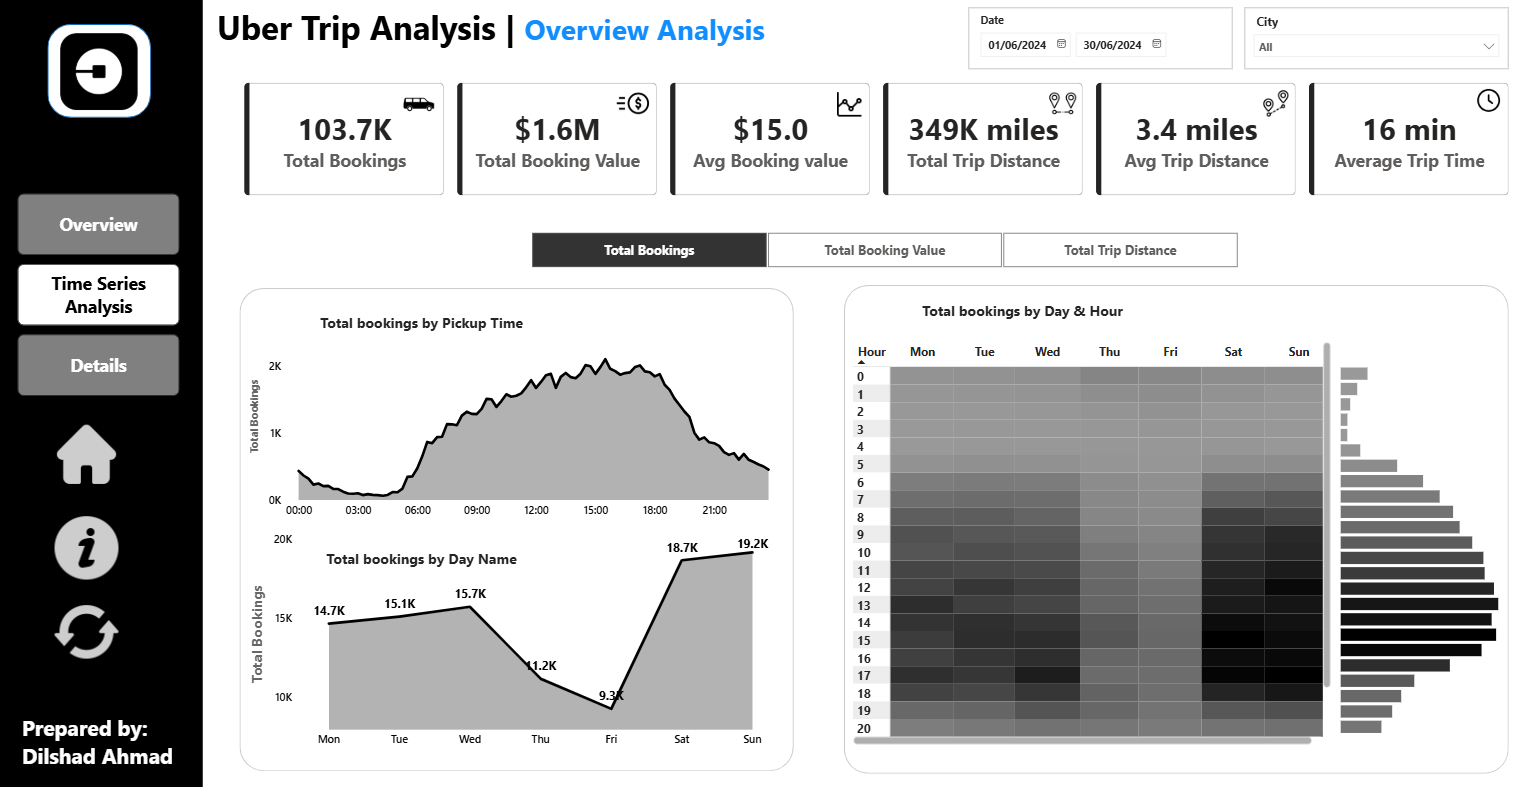

The page's visual inventory and layout, read from the dashboard file:
{"tool":"powerbi","page":{"name":"Overview","canvas":[1800,900],"ordinal":0},"visuals":[{"type":"shape","box":[33.3,0,233,900.7],"z":0},{"type":"cardVisual","fields":{"Data":["Trip Details.Total Bookings","Trip Details.Total Booking Value","Trip Details.Avg Booking Amount","Trip Details.Total Trip Distance","Trip Details.Avg Trip Distance","Trip Details.Average Trip Time"]},"box":[309,89.5,1447.6,138.3],"z":1000},{"type":"textbox","box":[308.4,0,687.8,68.8],"z":2000},{"type":"image","box":[1199.6,97.6,87.4,40.7],"z":3000},{"type":"image","box":[488,91.5,48.8,52.9],"z":4000},{"type":"image","box":[980,98,42,42],"z":5000},{"type":"image","box":[1709.9,93.5,36.6,40.7],"z":6000},{"type":"image","box":[731.9,93.5,48.8,46.8],"z":7000},{"type":"image","box":[1465.9,99.6,42.7,40.7],"z":8000},{"type":"shape","box":[320.5,247.7,700,302.3],"z":9000},{"type":"slicer","fields":{"Values":["Dynamic_Parameter.Dynamic_Parameter"]},"box":[338.3,255.3,640.4,53.2],"z":10000},{"type":"donutChart","fields":{"Y":["Trip Details.Total Bookings"],"Category":["Trip Details.Payment_type"]},"box":[338.4,310.6,282.8,215.5],"z":11000},{"type":"donutChart","fields":{"Y":["Trip Details.Total Bookings"],"Category":["Trip Details.Trip Type (Day/Night)"]},"box":[651.1,308.5,344.7,217],"z":12000},{"type":"shape","box":[308.5,585.1,712.8,300],"z":13000},{"type":"pivotTable","fields":{"Rows":["Trip Details.Vehicle"],"Values":["Trip Details.Total Bookings","Trip Details.Total Booking Value","Trip Details.Avg Booking value","Trip Details.Total Trip Distance Measure"]},"box":[423.4,614.9,580.9,263.8],"z":14000},{"type":"image","box":[268.1,663.8,193.6,70.2],"z":15000},{"type":"image","box":[264.3,778.7,195.2,71.2],"z":16000},{"type":"image","box":[250.1,744.2,221.6,61],"z":17000},{"type":"image","box":[264.3,705.5,195.2,59],"z":18000},{"type":"image","box":[296.9,823.5,130.1,61],"z":19000},{"type":"card","fields":{"Values":["Trip Details.Vehical heading"]},"box":[319.2,585.6,246,32.5],"z":20000},{"type":"shape","box":[1059.7,246.8,700.4,196],"z":21000},{"type":"shape","box":[1059.6,451.1,700,434],"z":22000},{"type":"cardVisual","fields":{"Data":["Trip Details.Top Pickup Location","Trip Details.Top Drop Location"]},"box":[1074.5,506.4,663.8,85.1],"z":23000},{"type":"cardVisual","fields":{"Data":["Trip Details.farthest trip"]},"box":[1074.5,591.5,663.8,74.5],"z":24000},{"type":"barChart","fields":{"Y":["Trip Details.Total Bookings"],"Category":["Location Table.Location"]},"box":[1076,676.8,332.1,201.4],"z":25000},{"type":"barChart","title":"Most preferred Vehicle by Location pickup","fields":{"Category":["Trip Details.Vehicle"],"Y":["CountNonNull(Trip Details.PULocationID)"]},"box":[1415.3,685.9,332.1,194.2],"z":26000},{"type":"shape","box":[616.5,345.3,55.6,178.5],"z":27000},{"type":"shape","box":[1380.9,685.1,57.4,193.6],"z":28000},{"type":"slicer","fields":{"Values":["Calender.Date"]},"box":[1136.2,8.5,300,70.2],"z":29000},{"type":"slicer","fields":{"Values":["Location Table.City"]},"box":[1468.1,8.5,280.9,70.2],"z":30000},{"type":"card","fields":{"Values":["Trip Details.Title Location"]},"box":[1074.5,461.7,180,31.9],"z":31000},{"type":"areaChart","fields":{"Category":["Calender.Date.Variation.Date Hierarchy.Day"],"Y":["Trip Details.Total Bookings"]},"box":[1075,254.5,670.5,179.5],"z":32000},{"type":"group","id":"g1","title":"Group 1","box":[91,26.6,117.6,106.5],"z":33000},{"type":"shape","box":[91,26.6,117.6,106.5],"z":33000,"group":"g1"},{"type":"image","box":[95.4,31,106.5,97.6],"z":34000,"group":"g1"},{"type":"pageNavigator","box":[55.5,219.6,184.1,230.7],"z":34000},{"type":"image","box":[91,581.3,88.7,82.1],"z":35000},{"type":"image","box":[91,477,88.7,77.7],"z":36000},{"type":"image","box":[91,676.7,88.7,82.1],"z":37000},{"type":"textbox","box":[55.6,804.2,183.1,74.2],"z":39000}]}

Visuals, with their boxes on the page's 1800x900 design canvas (x1, y1, x2, y2). These are canvas units, not pixel positions in the 1520x787 screenshot, which may show the page scaled, cropped or inside an application window:
shape: (33,0,266,901)
cardVisual - Trip Details.Total Bookings x Trip Details.Total Booking Value: (309,90,1757,228)
textbox: (308,0,996,69)
image: (1200,98,1287,138)
image: (488,92,537,144)
image: (980,98,1022,140)
image: (1710,94,1746,134)
image: (732,94,781,140)
image: (1466,100,1509,140)
shape: (320,248,1020,550)
slicer - Dynamic_Parameter.Dynamic_Parameter: (338,255,979,308)
donutChart - Trip Details.Total Bookings x Trip Details.Payment_type: (338,311,621,526)
donutChart - Trip Details.Total Bookings x Trip Details.Trip Type (Day/Night): (651,308,996,526)
shape: (308,585,1021,885)
pivotTable - Trip Details.Vehicle x Trip Details.Total Bookings: (423,615,1004,879)
image: (268,664,462,734)
image: (264,779,460,850)
image: (250,744,472,805)
image: (264,706,460,764)
image: (297,824,427,884)
card - Trip Details.Vehical heading: (319,586,565,618)
shape: (1060,247,1760,443)
shape: (1060,451,1760,885)
cardVisual - Trip Details.Top Pickup Location x Trip Details.Top Drop Location: (1074,506,1738,592)
cardVisual - Trip Details.farthest trip: (1074,592,1738,666)
barChart - Trip Details.Total Bookings x Location Table.Location: (1076,677,1408,878)
"Most preferred Vehicle by Location pickup" barChart: (1415,686,1747,880)
shape: (616,345,672,524)
shape: (1381,685,1438,879)
slicer - Calender.Date: (1136,8,1436,79)
slicer - Location Table.City: (1468,8,1749,79)
card - Trip Details.Title Location: (1074,462,1254,494)
areaChart - Calender.Date.Variation.Date Hierarchy.Day x Trip Details.Total Bookings: (1075,254,1746,434)
"Group 1" group: (91,27,209,133)
shape: (91,27,209,133)
image: (95,31,202,129)
pageNavigator: (56,220,240,450)
image: (91,581,180,663)
image: (91,477,180,555)
image: (91,677,180,759)
textbox: (56,804,239,878)
